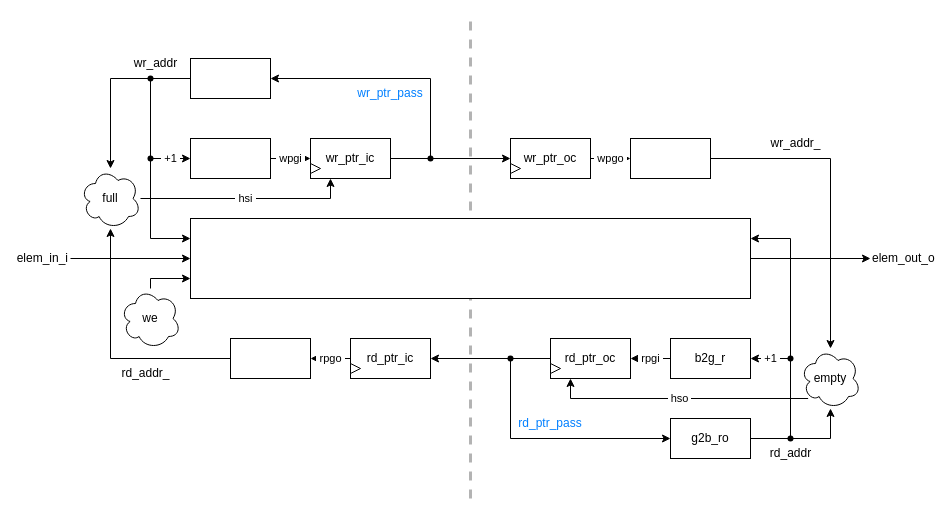
Image size: 952x518. Some labels were removed from this diagram. The shapes that lost their labels are listed below. From the top down, each one's centre as x and y in pixels, then its label:
At point (230, 78): "g2b_wi".
At point (230, 158): "b2g_w".
At point (670, 158): "g2b_wo".
At point (470, 258): "mem".
At point (270, 358): "g2b_ri".
